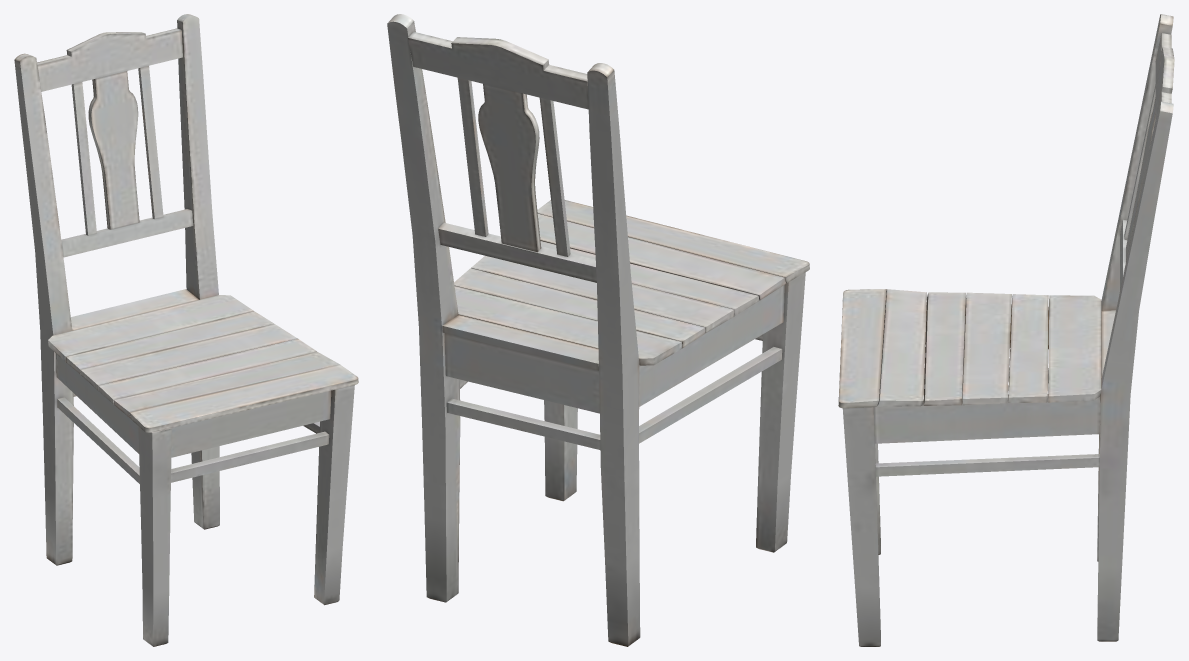
Rendered from painted_wooden_chair_01.glb.
3 renders of one model, left to right at view 1: azimuth 30°, elevation 25°; view 2: azimuth 150°, elevation 25°; view 3: azimuth 270°, elevation 25°, orthographic. The views are drawn at different scales.
Parts seen in each view (by area): view 1: c23_wood, c22_wood, c09_wood, c03_wood, c13_wood, c11_wood, c14_wood, c10_wood, c16_wood, c04_wood, c00_wood, c07_wood (+7 smaller); view 2: c21_wood, c20_wood, c18_wood, c07_wood, c13_wood, c09_wood, c16_wood, c01_wood, c15_wood, c19_wood, c02_wood, c00_wood (+5 smaller); view 3: c17_wood, c09_wood, c12_wood, c00_wood, c13_wood, c10_wood, c04_wood, c02_wood, c18_wood, c23_wood, c07_wood, c22_wood (+1 smaller).
Boxes of the visible parts, <box> form: c23_wood: <box>37,16,219,528</box>; c22_wood: <box>20,55,73,564</box>; c09_wood: <box>80,324,339,411</box>; c03_wood: <box>171,390,331,482</box>; c13_wood: <box>48,295,253,453</box>; c11_wood: <box>138,426,171,646</box>; c14_wood: <box>91,71,139,229</box>; c10_wood: <box>129,364,358,432</box>; c16_wood: <box>14,53,71,565</box>; c04_wood: <box>48,339,316,418</box>; c00_wood: <box>65,311,339,416</box>; c07_wood: <box>67,32,163,235</box>; c21_wood: <box>387,21,446,601</box>; c20_wood: <box>587,70,628,645</box>; c18_wood: <box>408,32,600,449</box>; c07_wood: <box>408,37,588,256</box>; c13_wood: <box>454,285,784,406</box>; c09_wood: <box>471,213,784,327</box>; c16_wood: <box>588,63,640,646</box>; c01_wood: <box>639,282,788,552</box>; c15_wood: <box>478,84,537,252</box>; c19_wood: <box>407,21,460,601</box>; c02_wood: <box>442,314,640,501</box>; c00_wood: <box>454,213,786,347</box>; c17_wood: <box>873,101,1173,641</box>; c09_wood: <box>879,289,1011,400</box>; c12_wood: <box>842,407,880,645</box>; c00_wood: <box>877,290,1101,406</box>; c13_wood: <box>925,295,1101,396</box>; c10_wood: <box>838,289,886,408</box>; c04_wood: <box>925,292,965,400</box>; c02_wood: <box>859,310,1115,646</box>; c18_wood: <box>1097,23,1172,561</box>; c23_wood: <box>1097,33,1164,626</box>; c07_wood: <box>1124,47,1174,268</box>; c22_wood: <box>1097,14,1160,546</box>.
Size of the model in its own units: 0.4318 by 0.9565 by 0.5398.
Materials: 1 (1 with a texture image).
